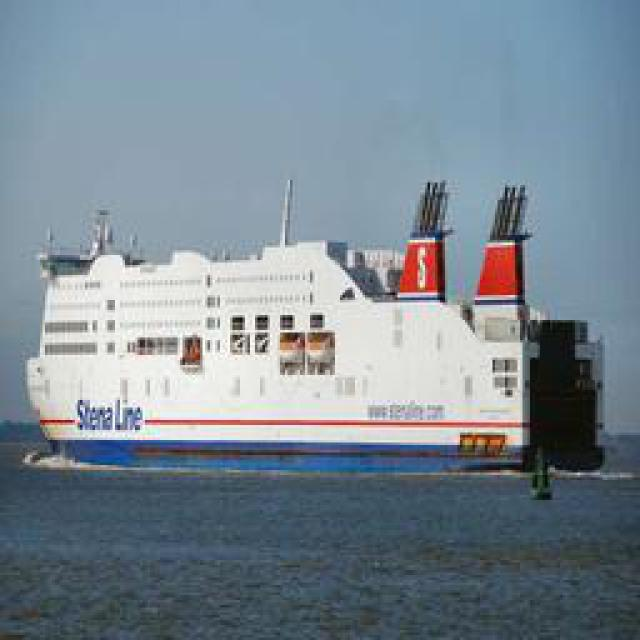Ship: (20, 165, 540, 468)
